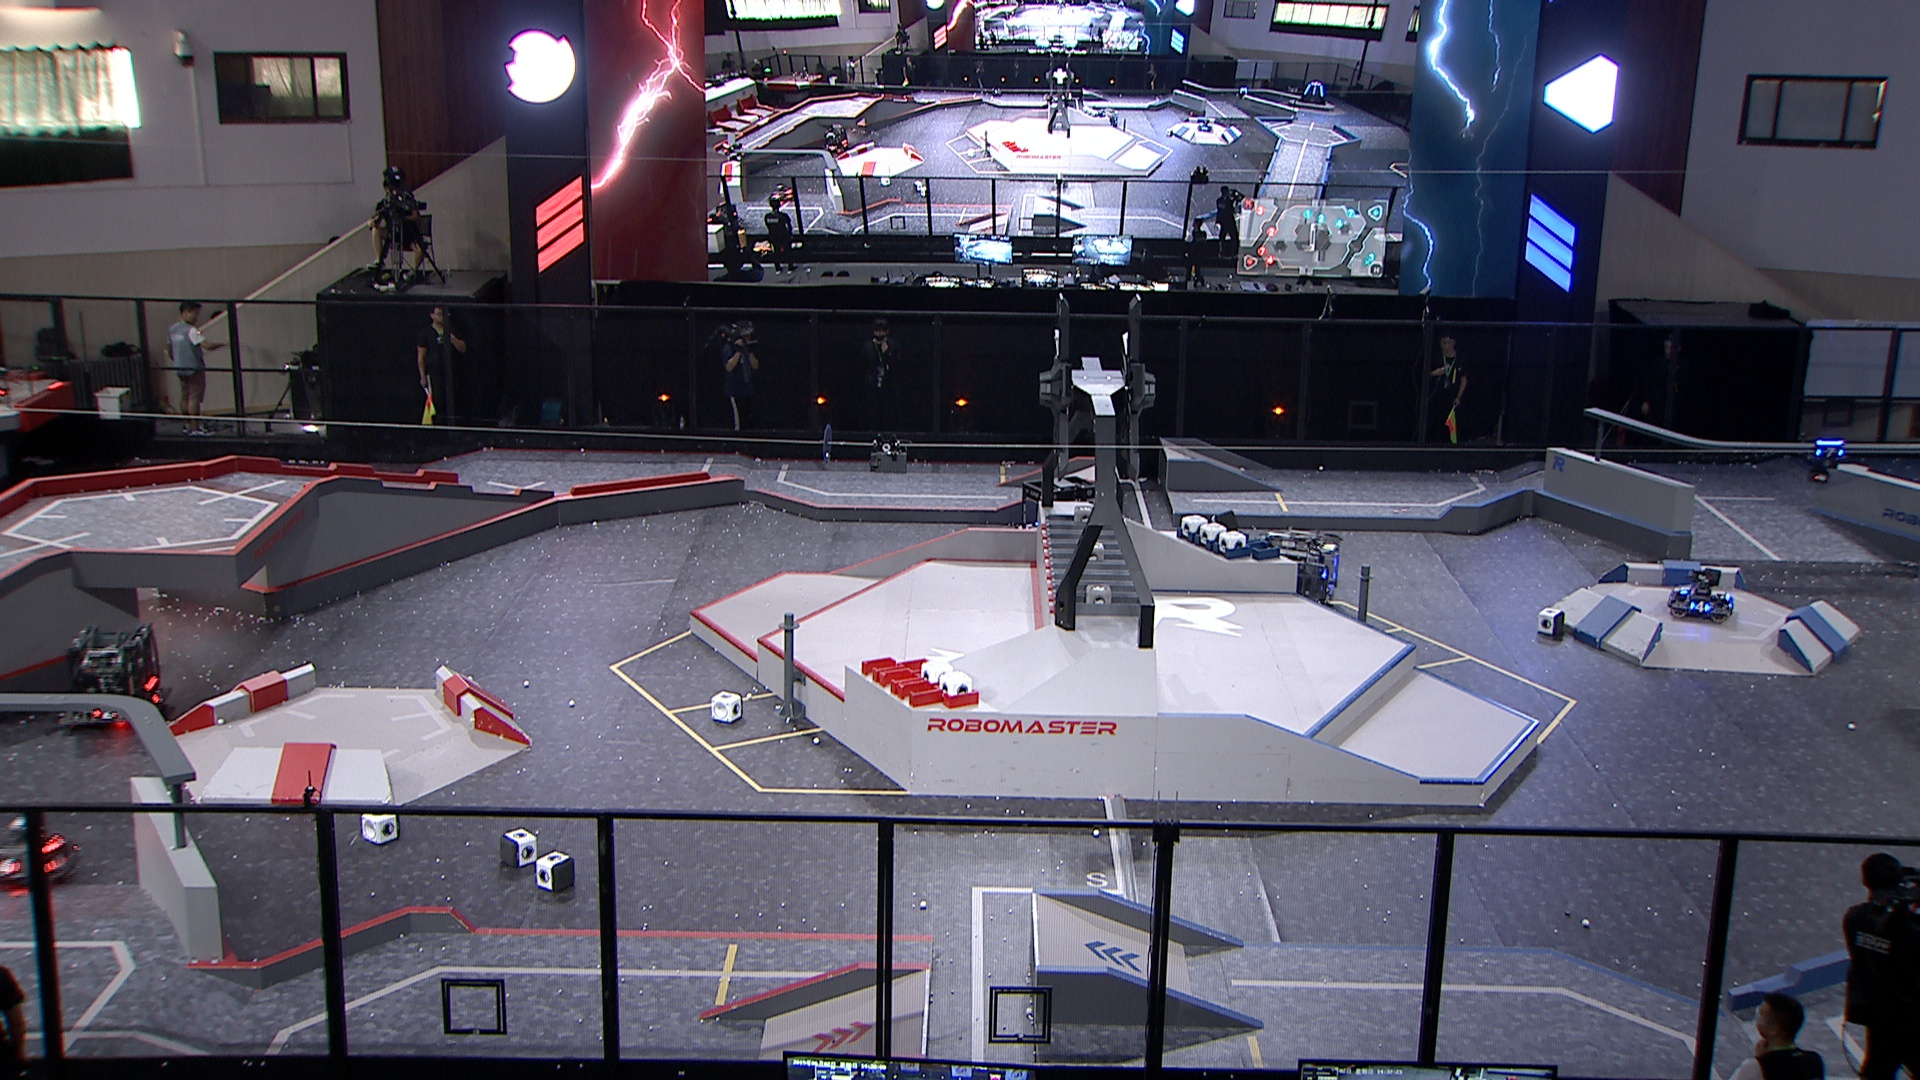armor: (44, 851, 71, 877), (91, 708, 121, 723), (1689, 599, 1712, 616), (1813, 447, 1845, 458), (152, 688, 167, 704), (1676, 584, 1692, 597)
car: (58, 622, 169, 733), (1011, 473, 1105, 553), (1257, 527, 1342, 609), (1665, 567, 1737, 624)
ignore: (708, 200, 740, 233), (1296, 80, 1328, 107), (825, 127, 849, 157), (769, 182, 795, 207), (1096, 109, 1120, 129), (723, 142, 744, 161), (1197, 117, 1215, 135), (1237, 86, 1250, 100)
watcher: (1804, 439, 1846, 483)
